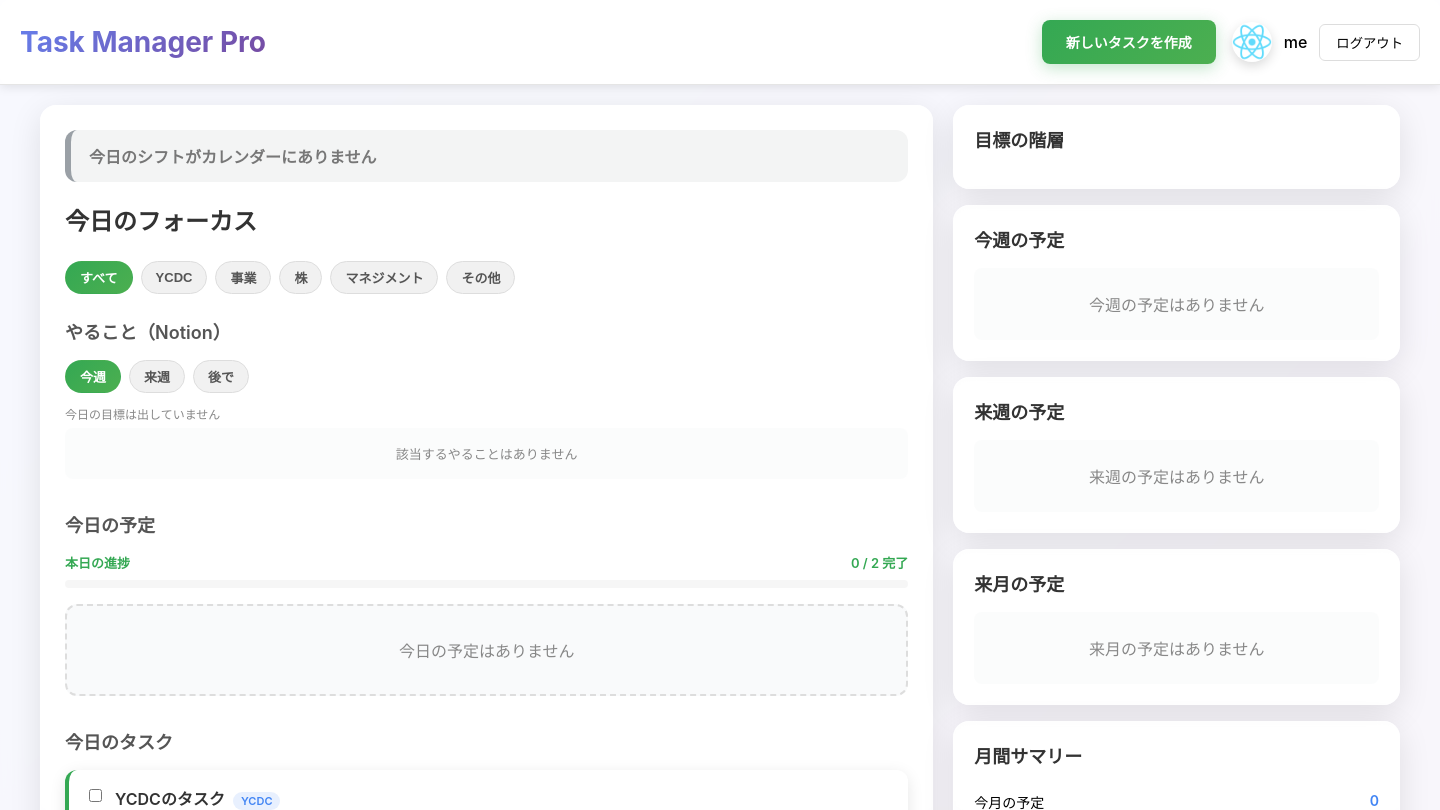
clicking a category filter button shows only that category's daily tasks
Check: the text "YCDCのタスク" is shown, box [115,789,225,809]
Step 1. Click the button "株" → (301, 278), box [279,261,322,294]
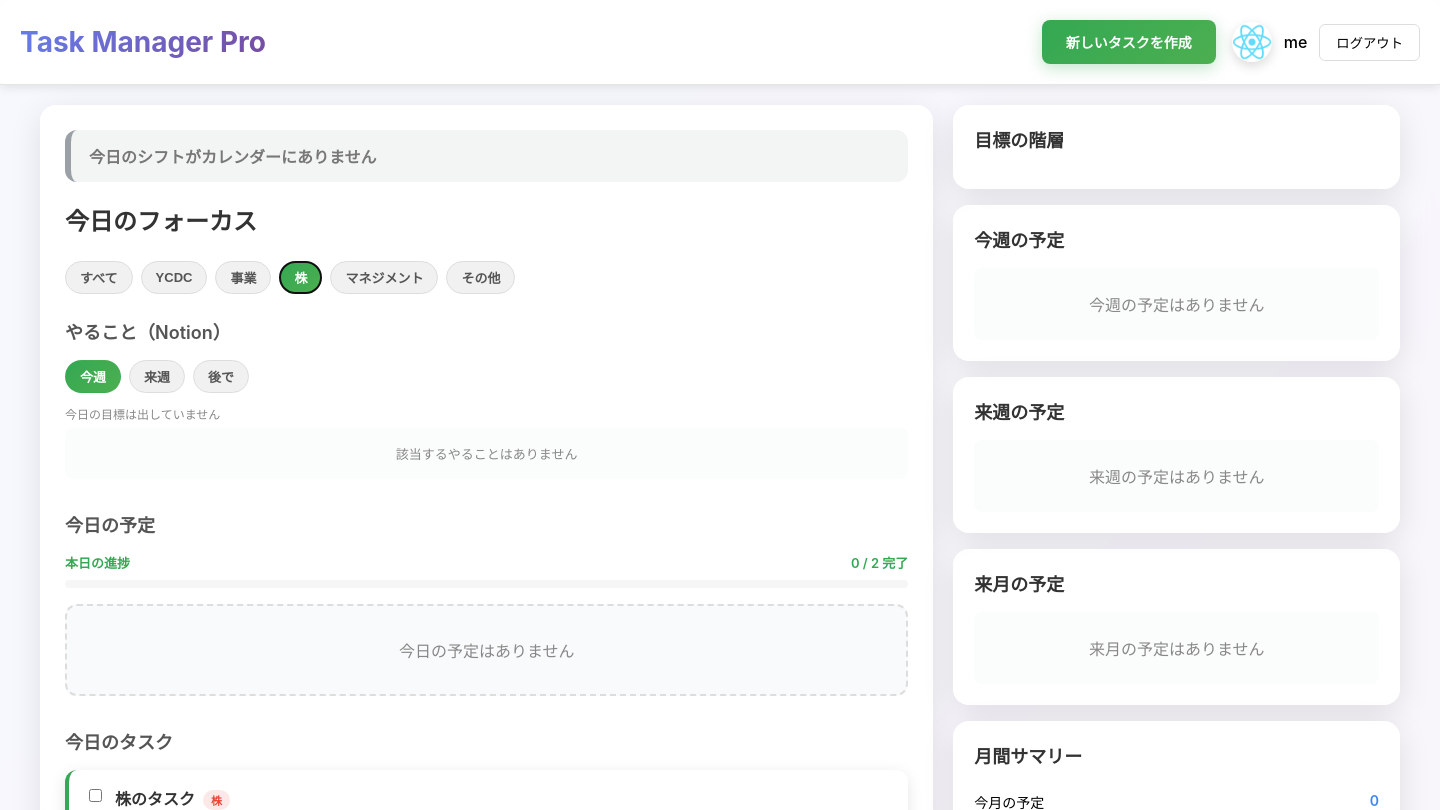
Check: the text "株のタスク" is shown, box [115,789,195,809]
Check: the text "YCDCのタスク" is gone
